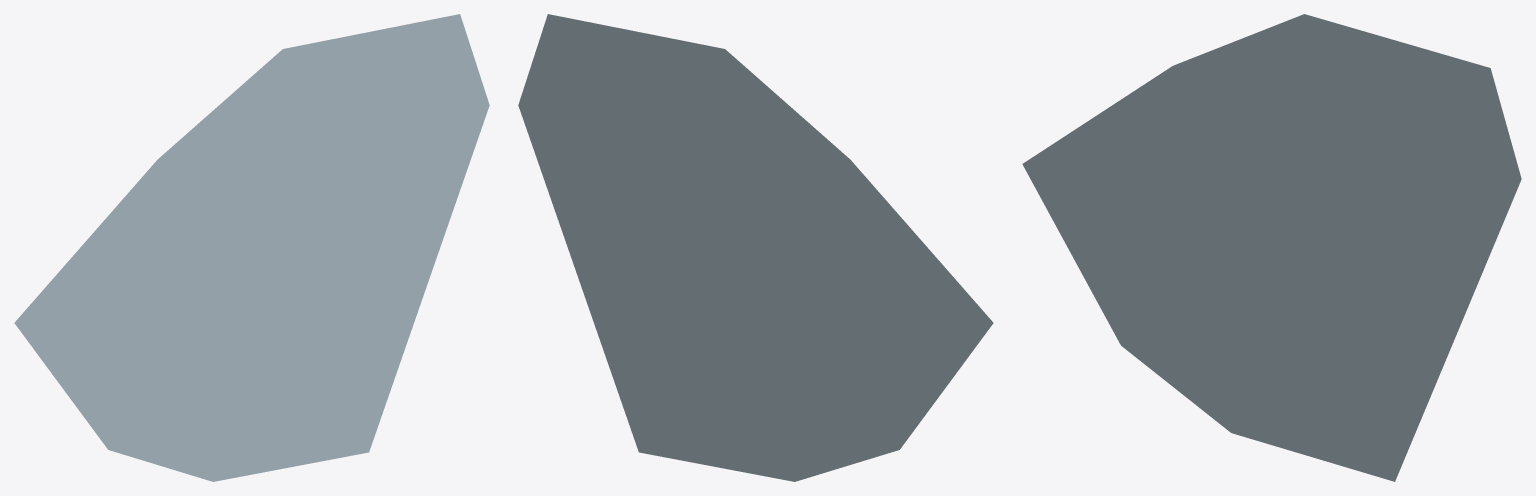
3 renders of one model, left to right at view 1: azimuth 30°, elevation 25°; view 2: azimuth 150°, elevation 25°; view 3: azimuth 330°, elevation 25°, orthographic. The views are drawn at different scales.
Visible parts, largest first — view 1: pCube20; view 2: pCube20; view 3: pCube20.
Part boxes in pixels (<box>): pCube20: <box>14,14,489,481</box>; pCube20: <box>518,14,993,481</box>; pCube20: <box>1022,14,1521,481</box>.
Bounding box in the file's own units: 56.4 × 48.11 × 0.
